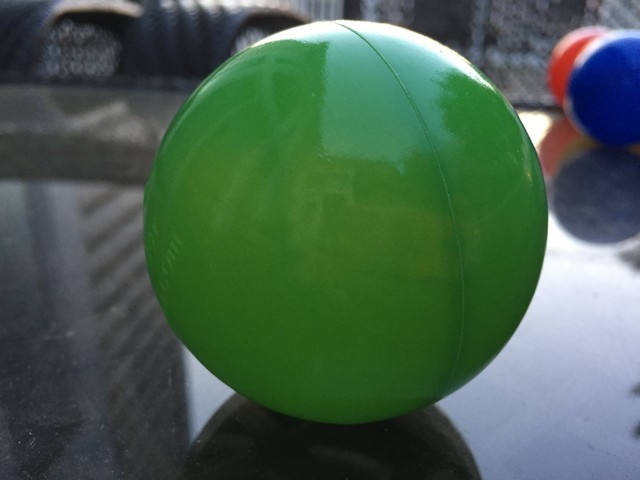Ball: (548, 26, 605, 106)
